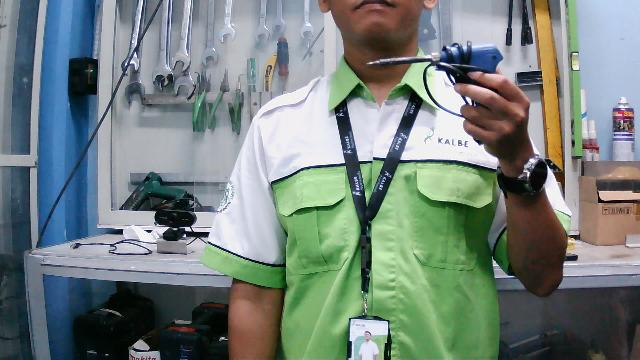solder_electrical: (367, 42, 503, 145)
